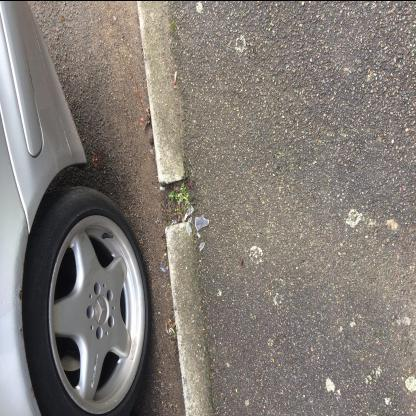plastik: (196, 216, 210, 231)
